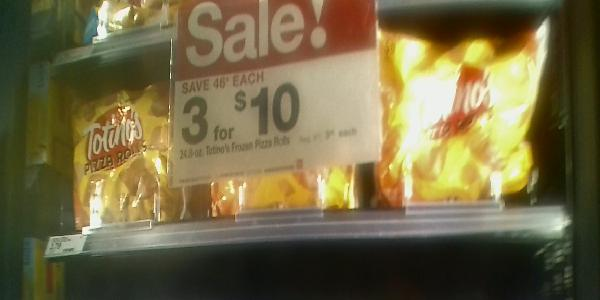icecream: (366, 22, 569, 210), (168, 40, 360, 215), (57, 77, 196, 230)
